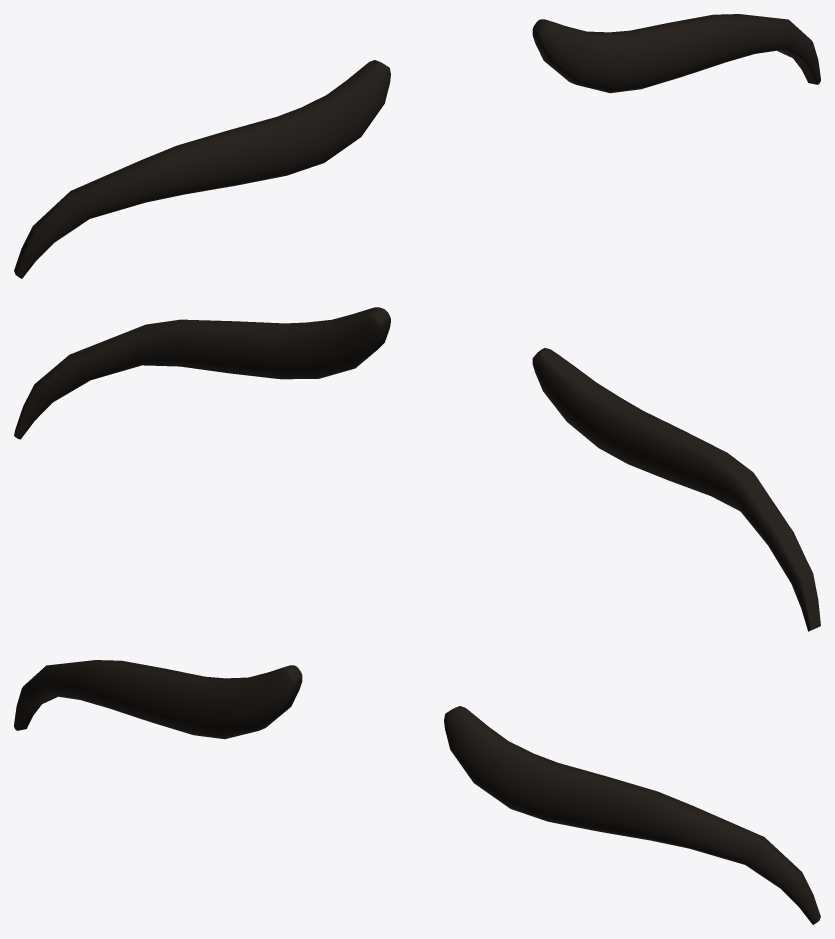
Rendered from Eyebrows_21_01.fbx.
3 renders of one model, top to bottom at view 1: azimuth 30°, elevation 25°; view 2: azimuth 150°, elevation 25°; view 3: azimuth 330°, elevation 25°, orthographic.
Parts seen in each view (by area): view 1: Eyebrows_21_01; view 2: Eyebrows_21_01; view 3: Eyebrows_21_01.
Boxes of the visible parts, bbox=[...] form: Eyebrows_21_01: bbox=[14, 14, 820, 278]; Eyebrows_21_01: bbox=[14, 307, 820, 631]; Eyebrows_21_01: bbox=[14, 660, 820, 924].
Size of the model in its own units: 18.62 by 3.81 by 2.44.
